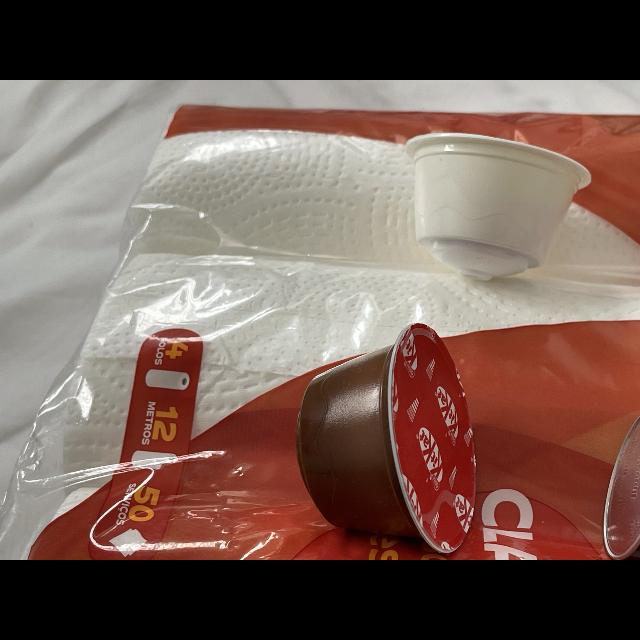intact_capsule: (284, 310, 498, 560), (387, 124, 599, 296)
